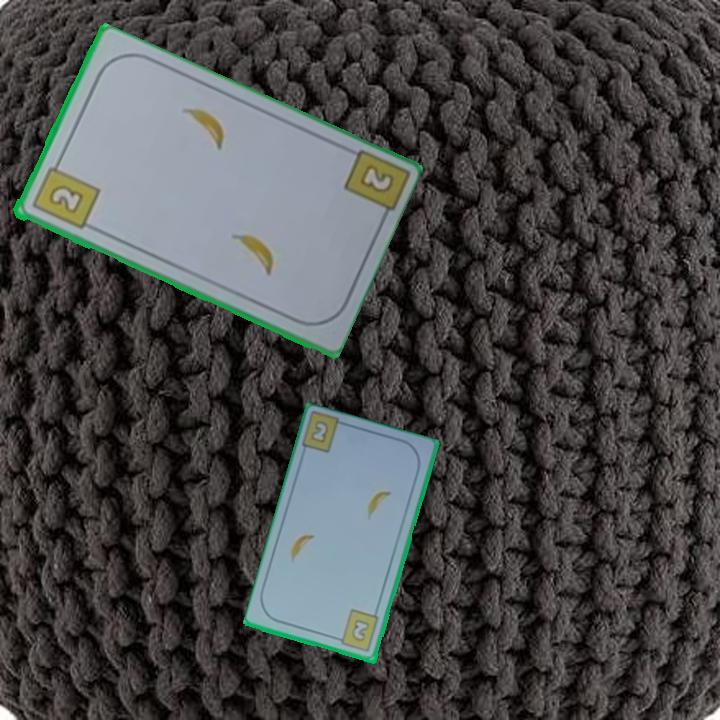2b: (28, 156, 102, 233), (332, 606, 382, 655), (355, 160, 397, 197), (307, 417, 332, 446)
